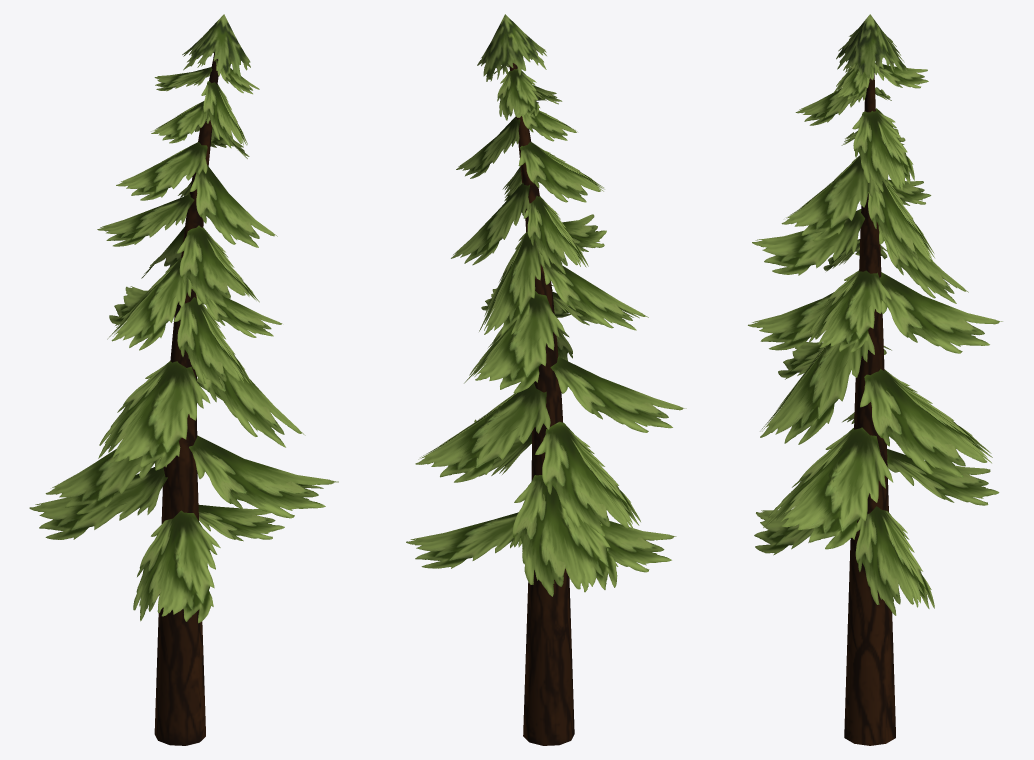
The model's file is pine_1_bend_less_faces.fbx.
3 views of the same model, side by side, from view 1: azimuth 30°, elevation 25°; view 2: azimuth 150°, elevation 25°; view 3: azimuth 270°, elevation 25° (orthographic). The views are drawn at different scales.
Parts seen in each view (by area): view 1: Cylinder004, Plane101, Plane104, Plane098, Plane099, Plane102, Plane085, Plane092, Plane097, Plane095, Plane094, Plane087 (+8 smaller); view 2: Cylinder004, Plane099, Plane097, Plane096, Plane093, Plane101, Plane105, Plane100, Plane092, Plane087, Plane106, Cone004 (+8 smaller); view 3: Cylinder004, Plane098, Plane096, Plane094, Plane100, Plane093, Plane107, Plane095, Plane088, Plane085, Plane086, Plane099 (+9 smaller).
Part boxes in pixels (x1,y1,x2,y2): Cylinder004: (154,52,218,745); Plane101: (98,361,210,470); Plane104: (133,510,220,623); Plane098: (189,435,338,518); Plane099: (29,467,167,539); Plane102: (173,297,252,390); Plane085: (176,225,259,307); Plane092: (107,258,193,350); Plane097: (45,449,166,514); Plane095: (190,165,277,247); Plane094: (188,357,305,447); Plane087: (116,142,207,200); Cylinder004: (509,63,574,745); Plane099: (512,475,618,596); Plane097: (535,421,640,536); Plane096: (415,383,550,482); Plane093: (464,291,564,393); Plane101: (550,356,686,432); Plane105: (479,232,544,335); Plane100: (406,512,522,568); Plane092: (542,258,648,330); Plane087: (518,142,604,202); Plane106: (523,196,588,274); Cone004: (477,14,546,81); Cylinder004: (844,73,895,745); Plane098: (763,427,893,549); Plane096: (860,369,992,477); Plane094: (760,334,874,444); Plane100: (855,506,934,615); Plane093: (880,272,1002,353); Plane107: (808,270,891,352); Plane095: (781,155,879,241); Plane088: (852,108,914,191); Plane085: (752,209,864,275); Plane086: (868,180,934,269); Plane099: (887,449,999,505).
Bounding box in the file's own units: 5.19 × 4.79 × 13.58.
